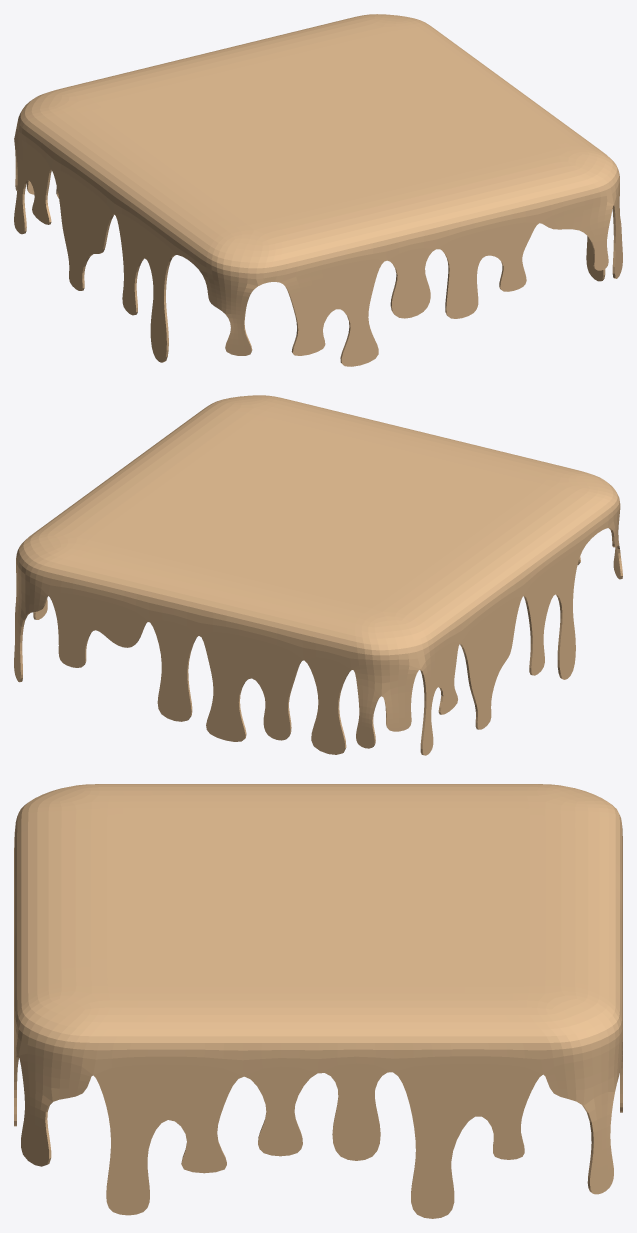
File: GlazeCreamGlaze.glb
3 views of the same model, one above another, from view 1: azimuth 30°, elevation 25°; view 2: azimuth 150°, elevation 25°; view 3: azimuth 270°, elevation 25° (orthographic). The views are drawn at different scales.
Parts seen in each view (by area): view 1: Cube.030; view 2: Cube.030; view 3: Cube.030.
Boxes of the visible parts, box(x1,y1,x2,y2) form: Cube.030: box(14, 14, 622, 366); Cube.030: box(14, 395, 622, 755); Cube.030: box(14, 784, 622, 1218).
Bounding box in the file's own units: 1.99 × 0.7048 × 1.99.
